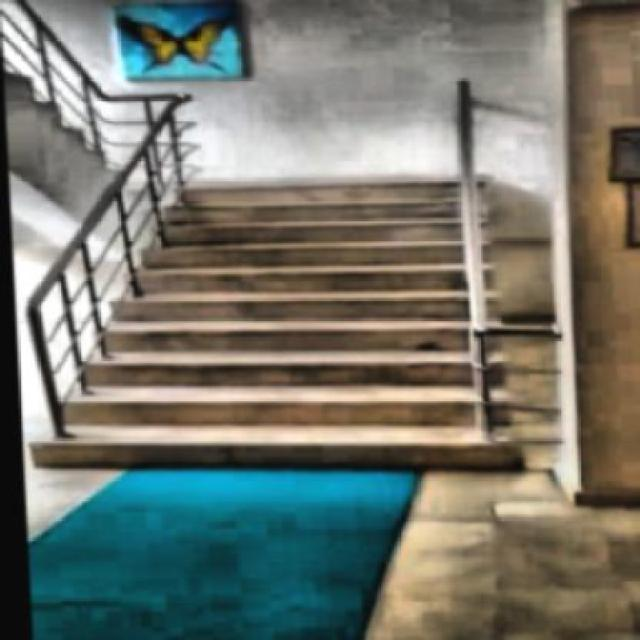stair: (6, 166, 539, 474)
